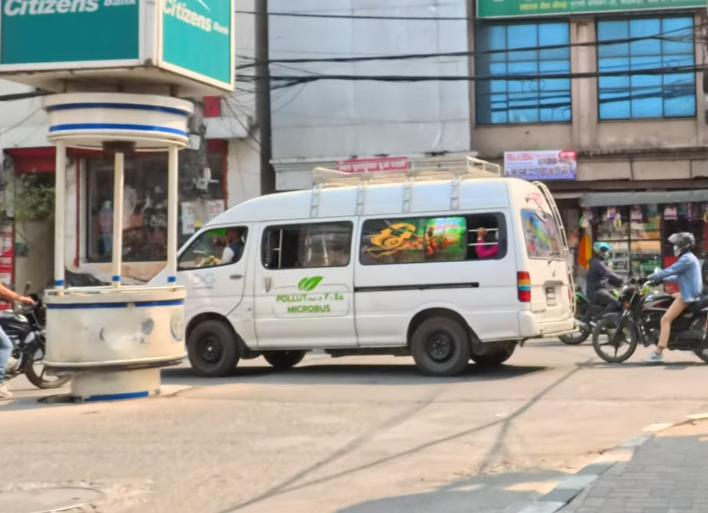bike: (592, 273, 708, 366), (0, 292, 75, 391)
micro_bus: (145, 165, 585, 375)
